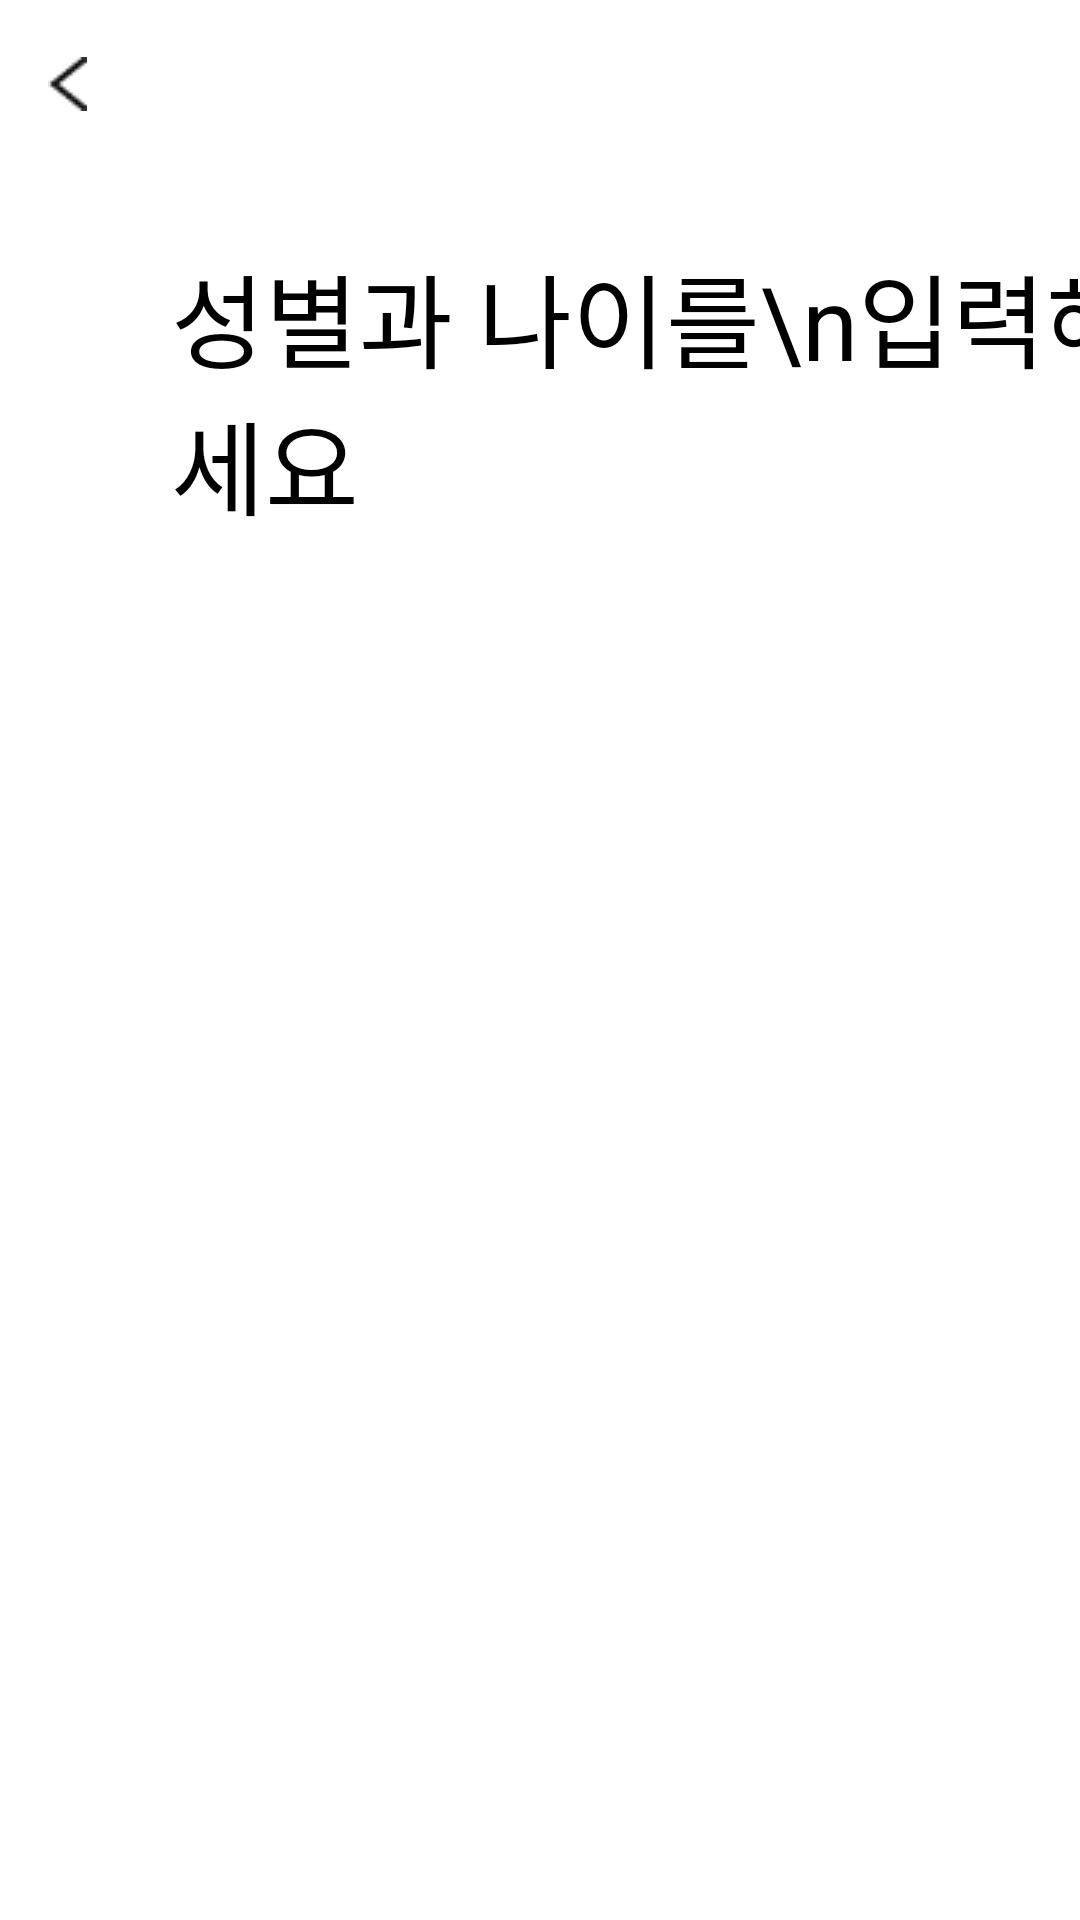

Point at icon controls on the screen. Image size 1080 x 1920, points as [x,y].
arrow left: [67,84]
